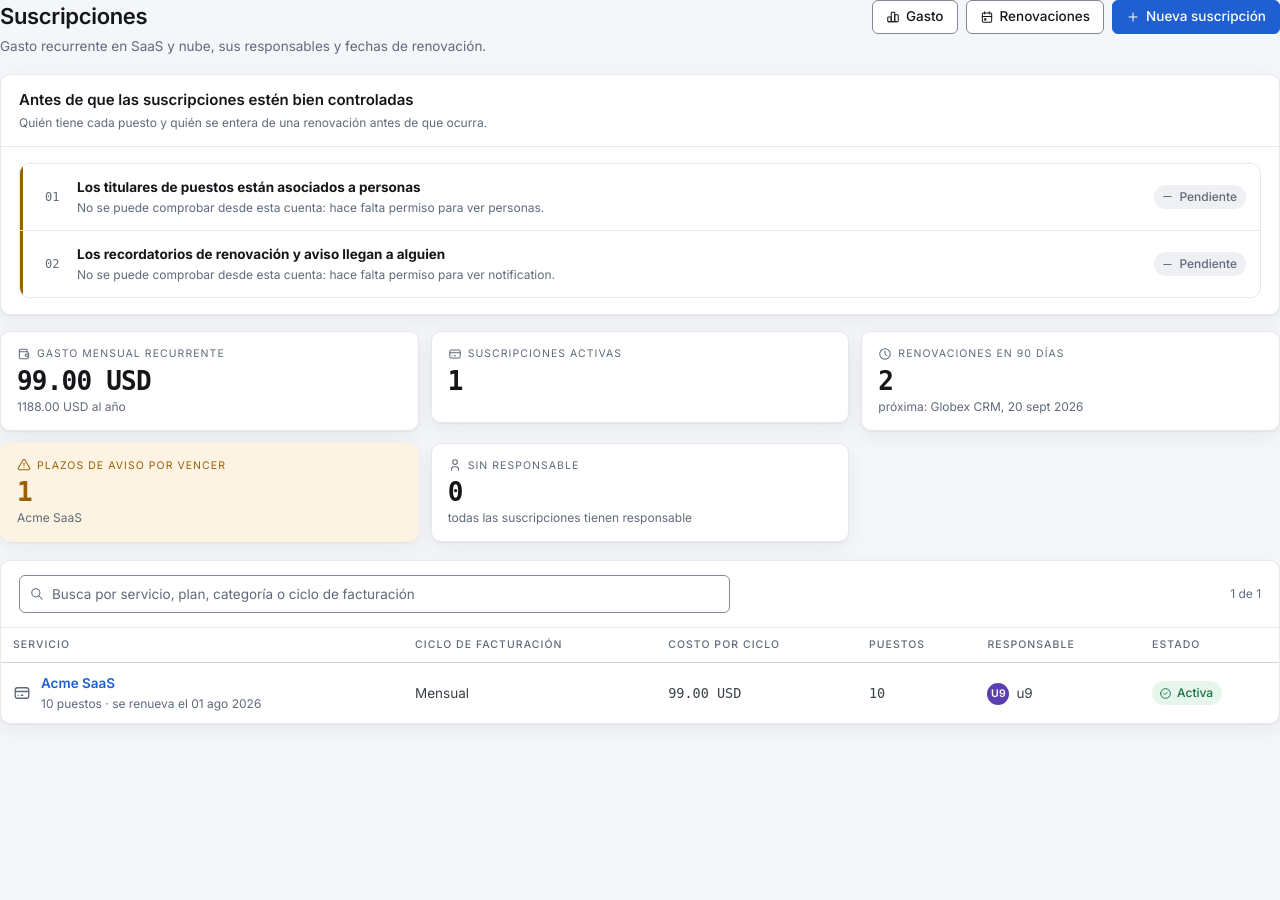
Test case: the subscriptions register in Spanish › points an empty owner list and an empty vendor list at the screens that fill them
expect the link "Acme SaaS" is shown: met, box [41, 675, 115, 691]
Click the button "Nueva suscripción": [1196, 17] box [1112, 0, 1279, 34]
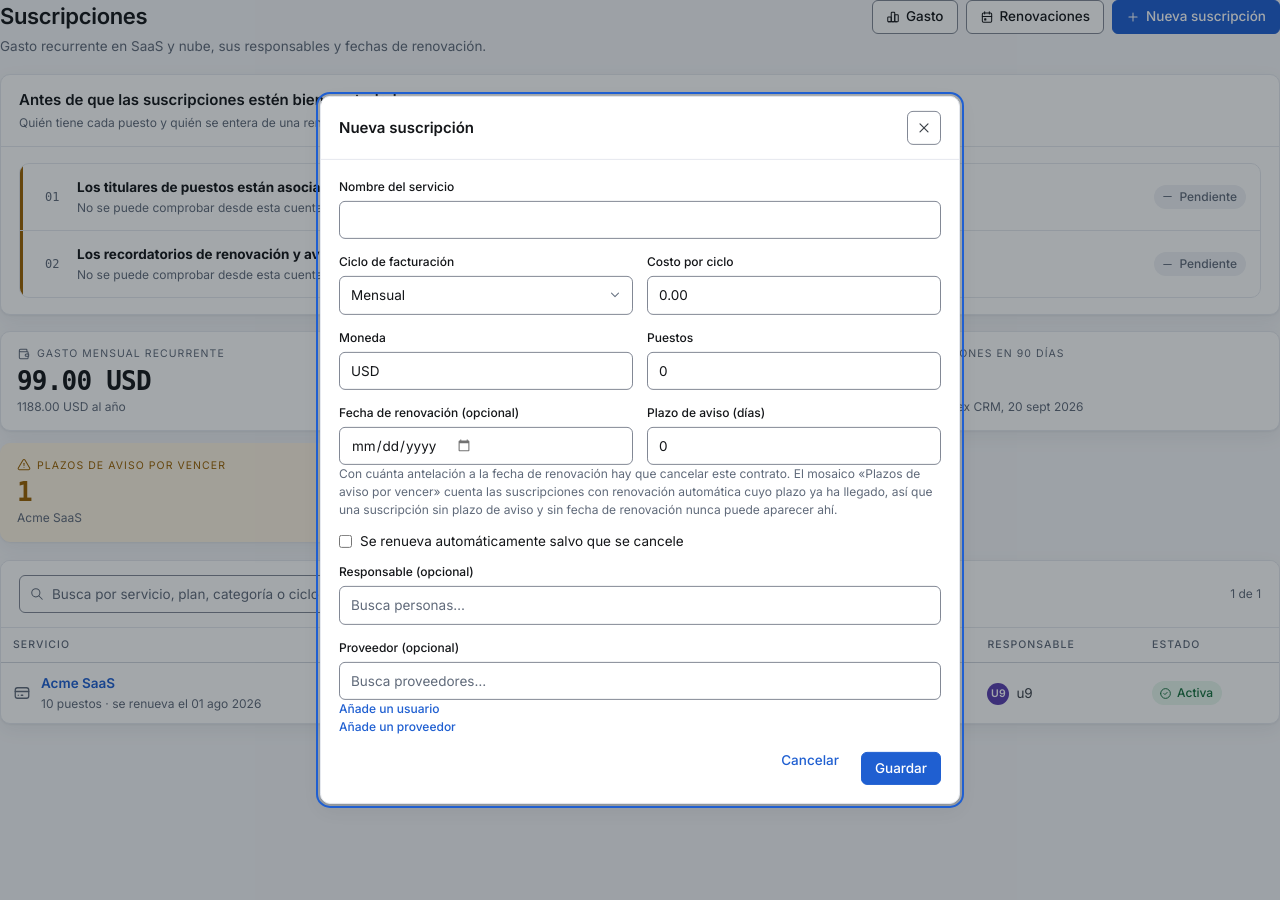
expect the link "Añade un usuario" is shown: met, box [339, 701, 440, 716]
